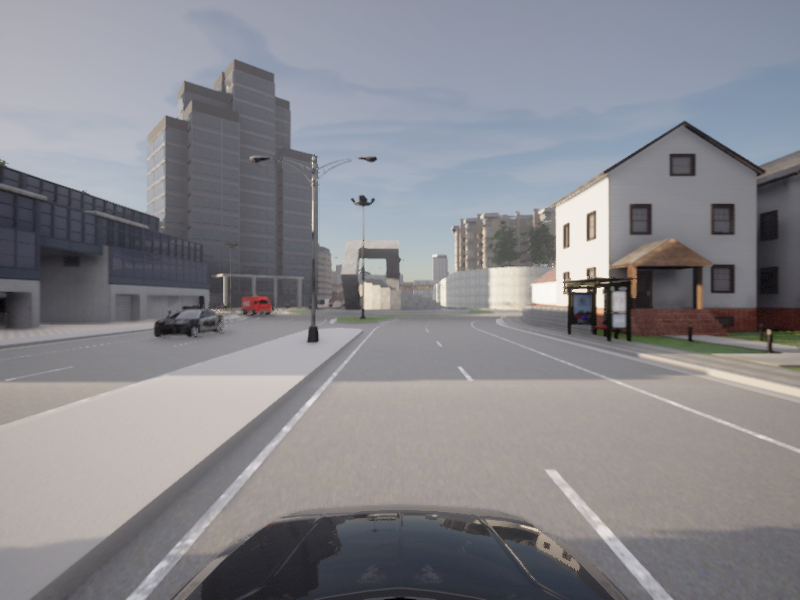vehicle: (144, 305, 228, 340)
